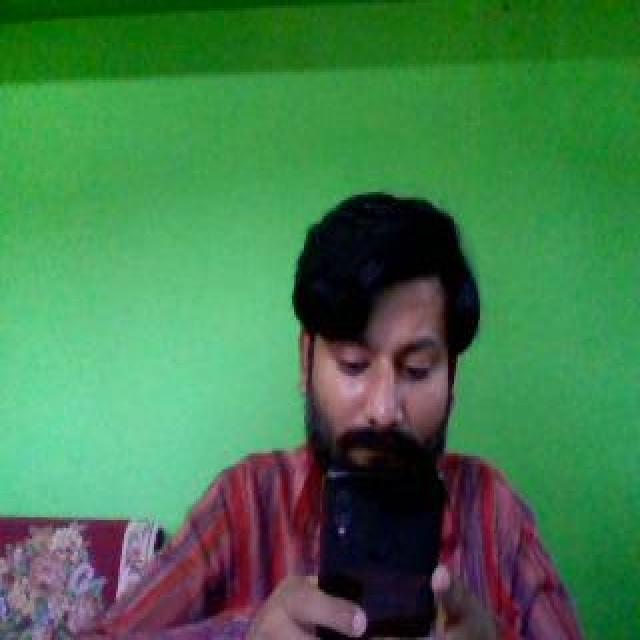phone: (318, 462, 446, 627)
